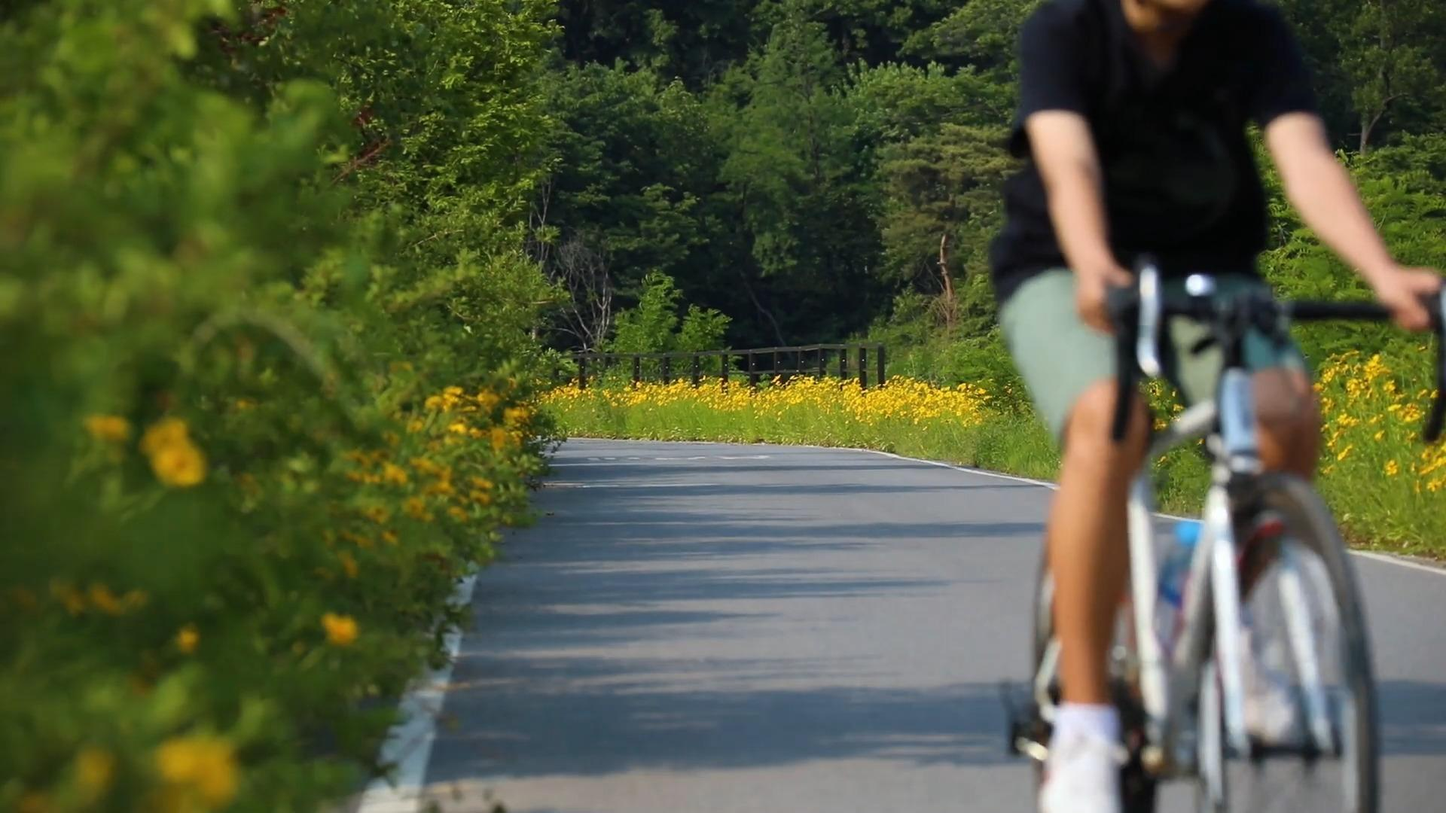bicyclist: (989, 0, 1446, 813)
